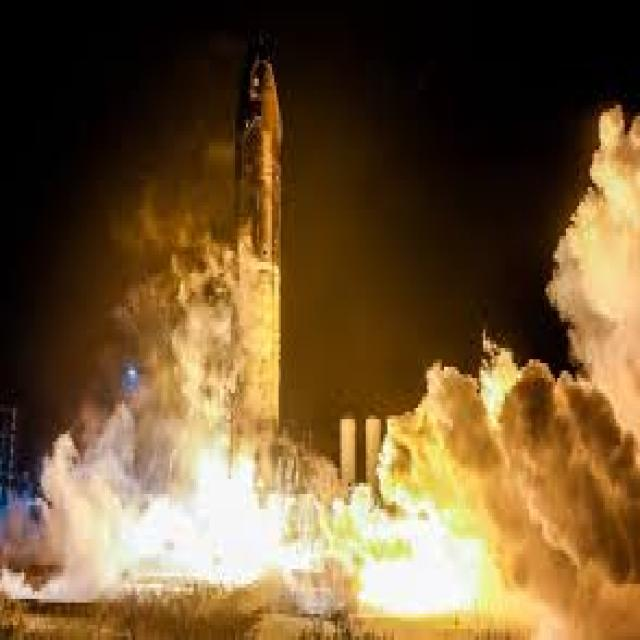explosion: (134, 283, 640, 640)
